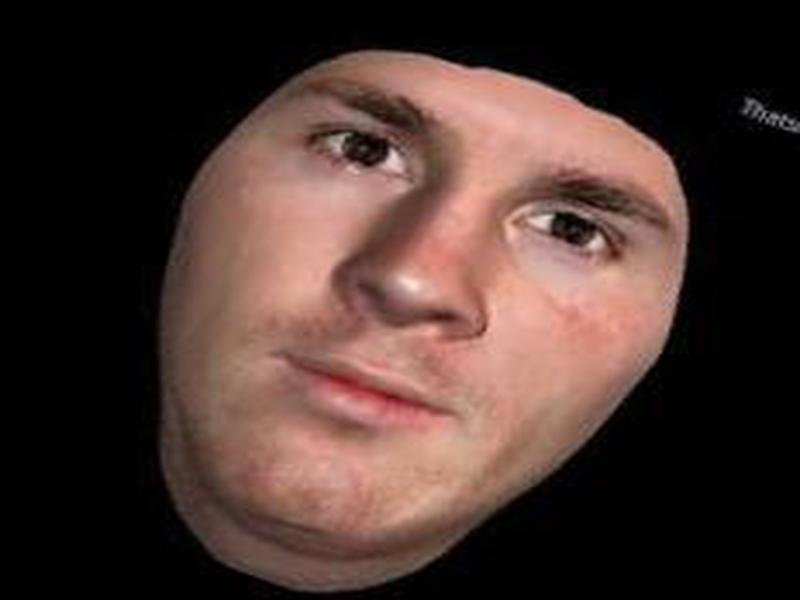without_mask: (151, 51, 689, 589)
